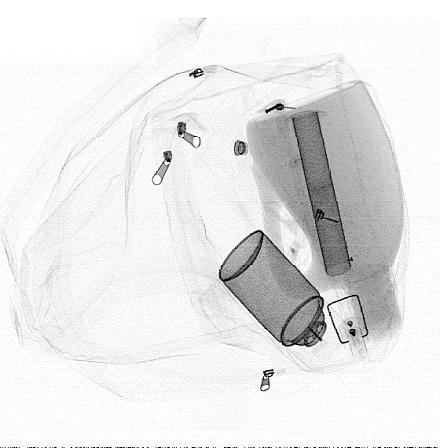Sprayer: (217, 229, 354, 377)
